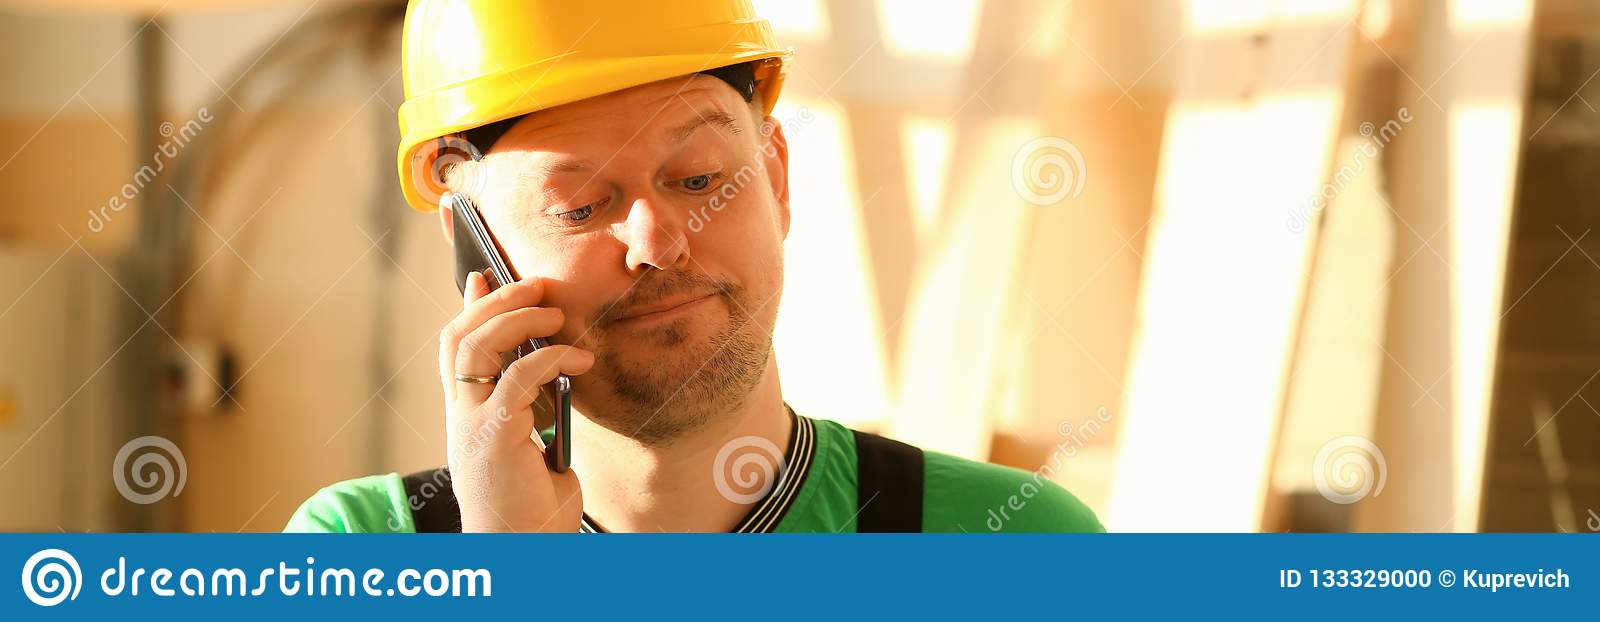phone: (446, 183, 580, 478)
talk: (432, 99, 771, 530)
